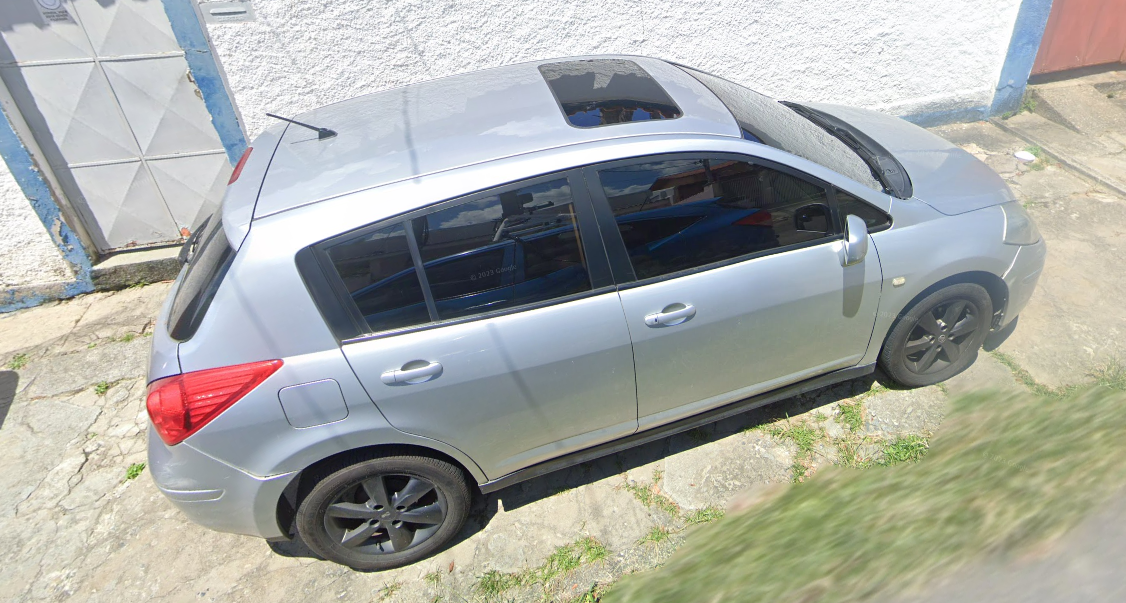car: (139, 53, 1045, 569)
